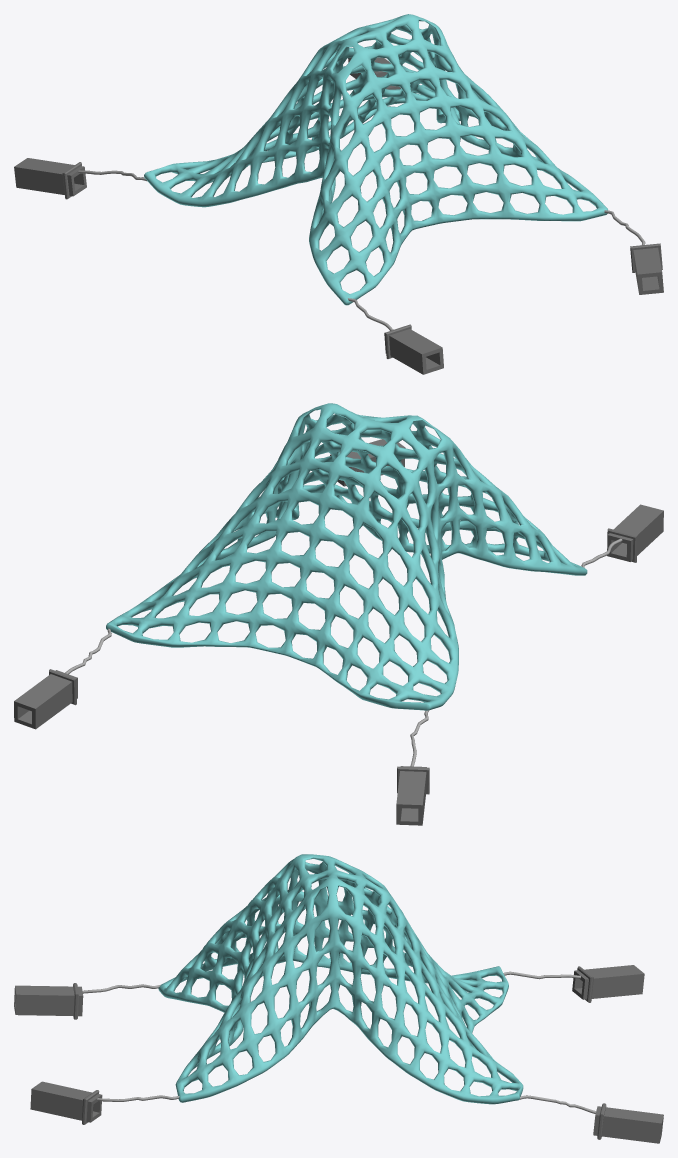
File: Net_GrabbedNoanimation.fbx
3 renders of one model, top to bottom at view 1: azimuth 30°, elevation 25°; view 2: azimuth 150°, elevation 25°; view 3: azimuth 270°, elevation 25°, orthographic. The views are drawn at different scales.
Visible parts, largest first — view 1: pasted__pCube17; view 2: pasted__pCube17; view 3: pasted__pCube17.
Part boxes in pixels (x1,y1,x2,y2): pasted__pCube17: (14, 14, 663, 374); pasted__pCube17: (14, 403, 663, 825); pasted__pCube17: (14, 854, 663, 1143).
Size of the model in its own units: 2.78 by 1.62 by 4.33.
